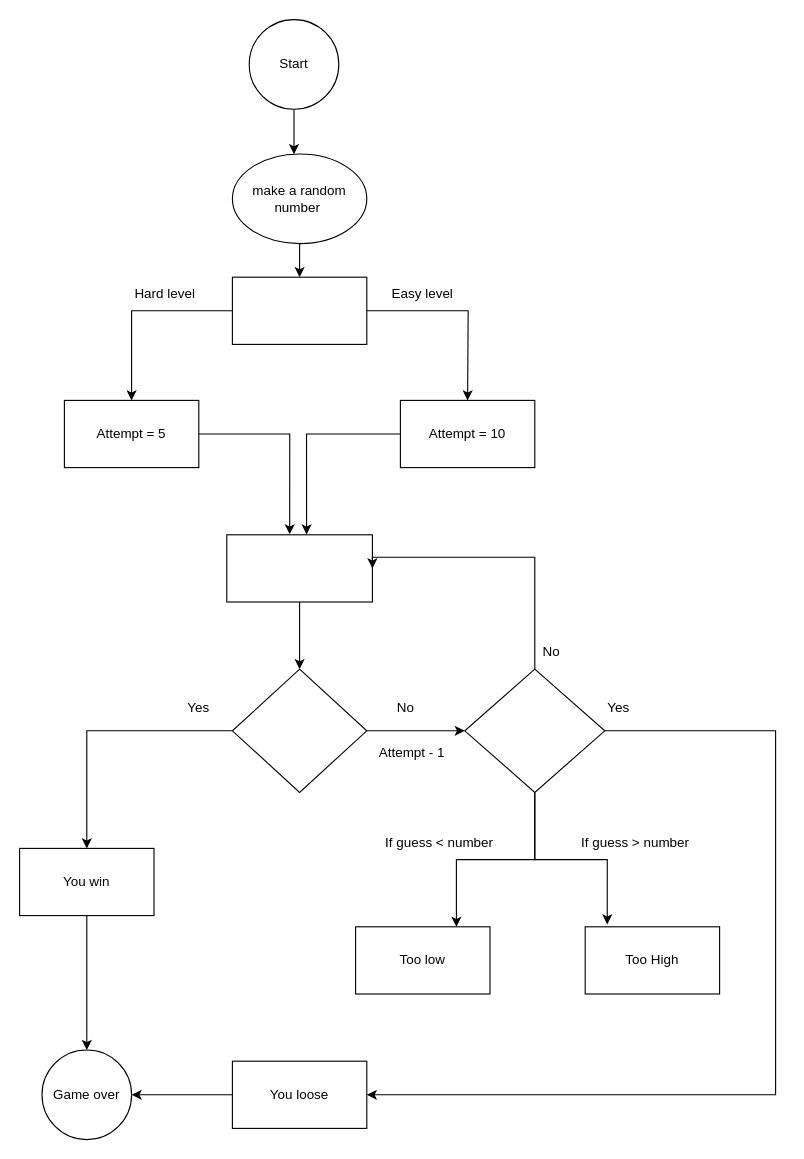
The diagram is 804 pixels wide and 1159 high, and some of its shapes have lost their labels. Each missing label, with the box of its shape:
Ask user to choose the dificulty level: (231, 276, 367, 344)
Ask user to guess: (226, 534, 372, 602)
Is attempt == 0?: (464, 668, 605, 792)
Is guess correct?: (231, 668, 367, 792)
